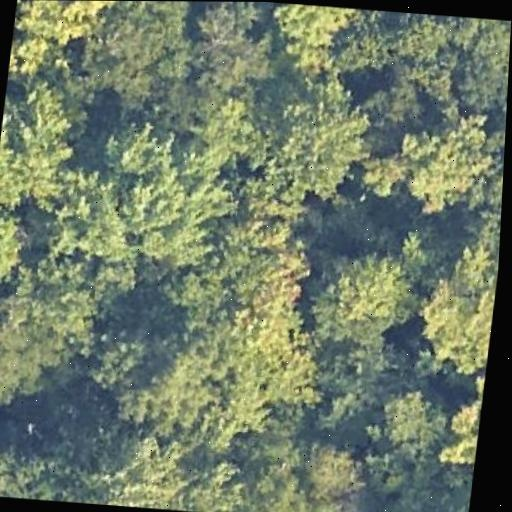tree-top: (57, 120, 228, 265), (301, 243, 435, 352), (251, 77, 369, 196), (388, 12, 512, 120), (386, 105, 497, 218), (74, 1, 189, 109), (408, 241, 500, 373), (121, 330, 224, 440), (0, 79, 84, 211), (356, 381, 466, 479), (177, 1, 282, 98), (165, 233, 278, 321), (118, 438, 252, 512), (24, 429, 139, 507), (0, 296, 74, 405), (264, 2, 365, 77), (183, 101, 271, 186), (234, 462, 353, 512), (464, 117, 506, 255), (74, 322, 153, 390), (287, 438, 368, 504), (437, 373, 485, 477), (12, 0, 121, 45), (0, 422, 41, 499), (0, 206, 25, 302), (409, 481, 471, 512)
